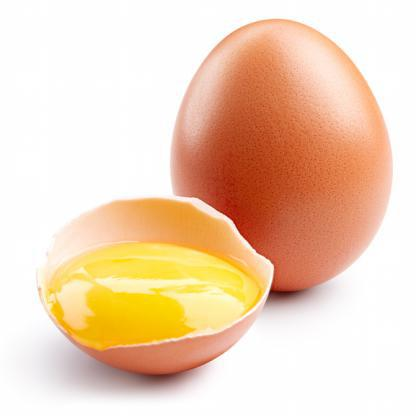egg: (168, 20, 404, 282)
